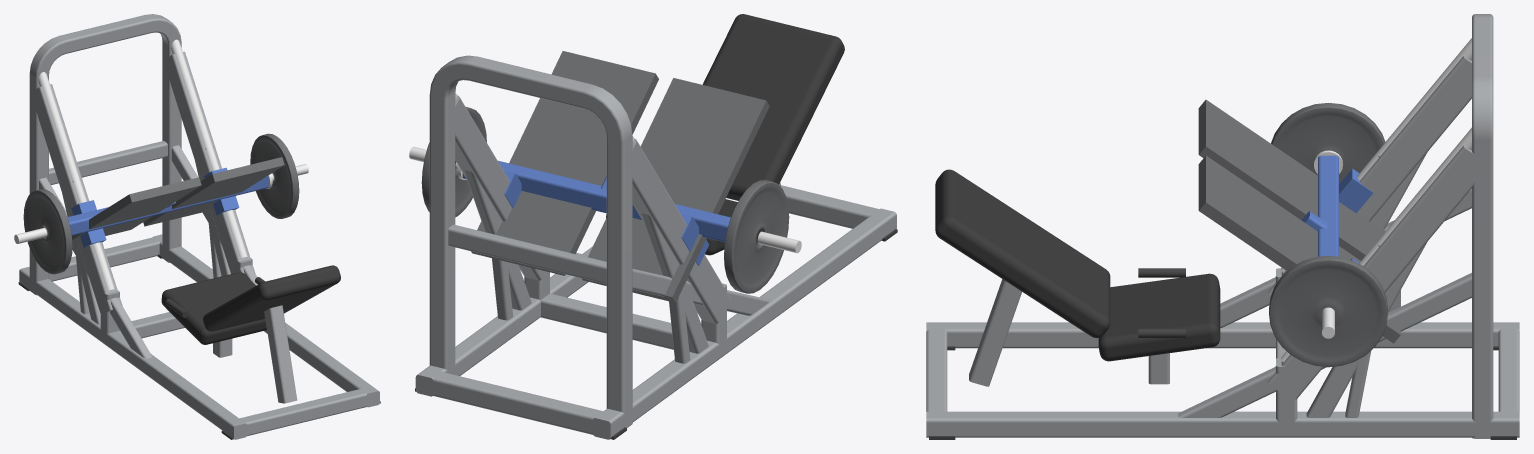
The picture shows the model from 3 angles, left to right: view 1: azimuth 30°, elevation 25°; view 2: azimuth 150°, elevation 25°; view 3: azimuth 270°, elevation 25°; orthographic projection. The views are drawn at different scales.
Parts seen in each view (by area): view 1: base, rear_arch_tube, rail_beam (×2), carriage, foot_plate (×2), frame, backrest_pad, seat_pad, rail (×2), backrest, rear_tie, carriage_beam (+1 smaller); view 2: foot_plate (×2), base, rear_arch_tube, backrest_pad, frame, rail_beam (×2), carriage, rear_tie, carriage_beam, plate_horn, carriage_slider, seat_pad; view 3: base, carriage, foot_plate (×2), backrest_pad, rail_beam (×2), frame, rear_arch_tube, seat_pad, backrest, rail (×2), carriage_beam, carriage_slider (+1 smaller).
Boxes of the visible parts, x1,y1,x2,y2 form: base: (18, 234, 380, 439); rear_arch_tube: (29, 14, 181, 295); rail_beam (×2): (30, 51, 255, 315); carriage: (23, 133, 299, 274); foot_plate (×2): (72, 157, 284, 241); frame: (39, 145, 257, 358); backrest_pad: (203, 265, 340, 331); seat_pad: (161, 272, 266, 344); rail (×2): (38, 39, 247, 290); backrest: (264, 305, 297, 403); rear_tie: (49, 141, 167, 184); carriage_beam: (67, 175, 268, 235); foot_plate (×2): (471, 51, 769, 302); base: (415, 185, 897, 439); rear_arch_tube: (429, 55, 632, 427); backrest_pad: (702, 14, 844, 200); frame: (464, 170, 770, 363); rail_beam (×2): (448, 95, 731, 323); carriage: (421, 107, 789, 293); rear_tie: (448, 224, 606, 284); carriage_beam: (462, 160, 730, 242); plate_horn: (757, 231, 801, 253); carriage_slider: (680, 213, 709, 265); seat_pad: (606, 199, 737, 255); base: (926, 322, 1519, 439); carriage: (1269, 103, 1387, 367); foot_plate (×2): (1198, 99, 1400, 343); backrest_pad: (935, 169, 1110, 338); rail_beam (×2): (1267, 56, 1488, 399); frame: (1178, 152, 1471, 429); rear_arch_tube: (1472, 14, 1493, 438); seat_pad: (1098, 273, 1220, 361); backrest: (969, 279, 1021, 386); rail (×2): (1281, 38, 1471, 362); carriage_beam: (1318, 155, 1338, 256); carriage_slider: (1339, 168, 1373, 213).
Bounding box in the file's own units: 1.75 × 1.42 × 2.24.
